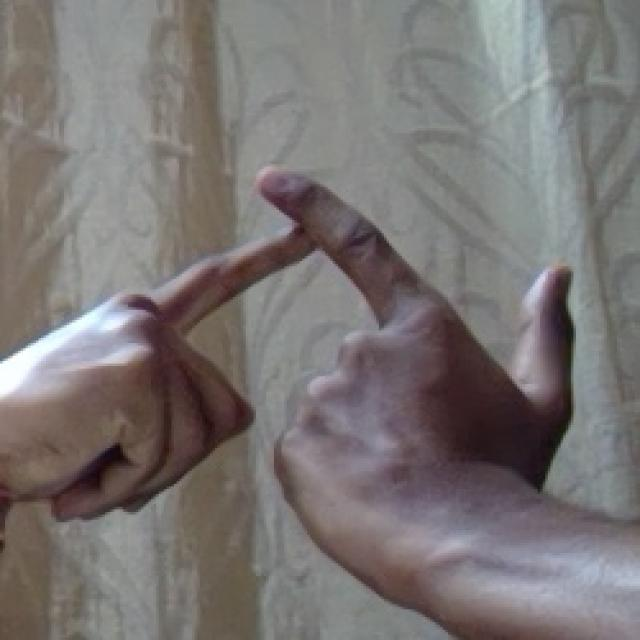Alphabet-J: (21, 164, 575, 601)
